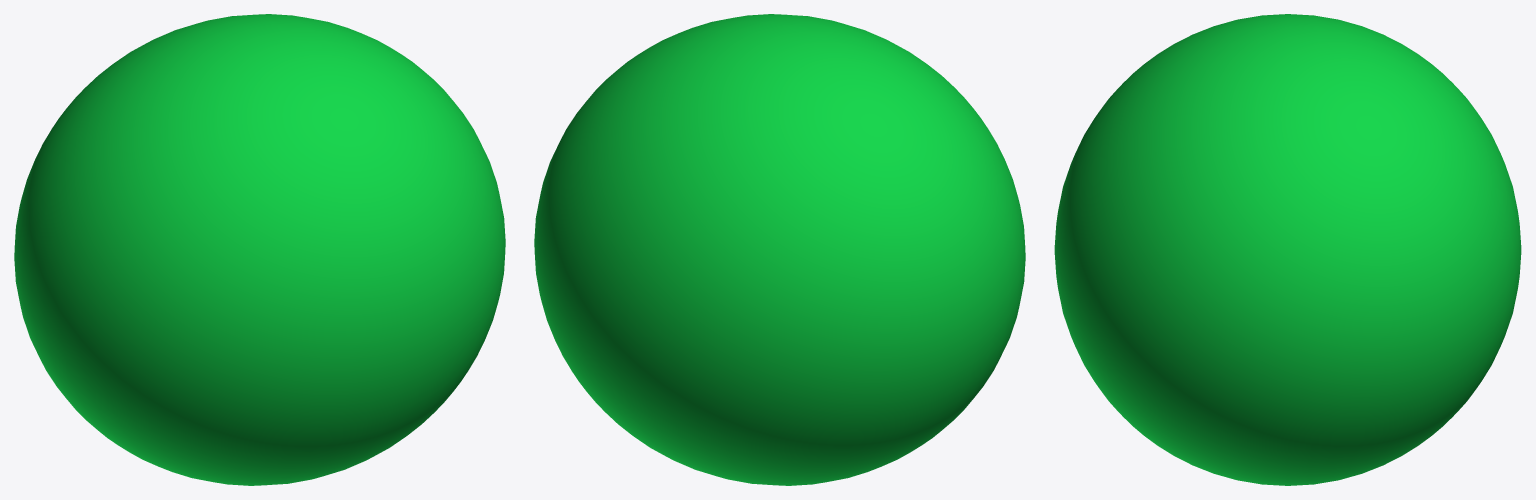
Rendered from oxygen.glb.
3 views of the same model, side by side, from view 1: azimuth 30°, elevation 25°; view 2: azimuth 150°, elevation 25°; view 3: azimuth 270°, elevation 25° (orthographic).
Bounding box in the file's own units: 0.139 × 0.1313 × 0.1313.
Materials: 1 (1 with a texture image).
